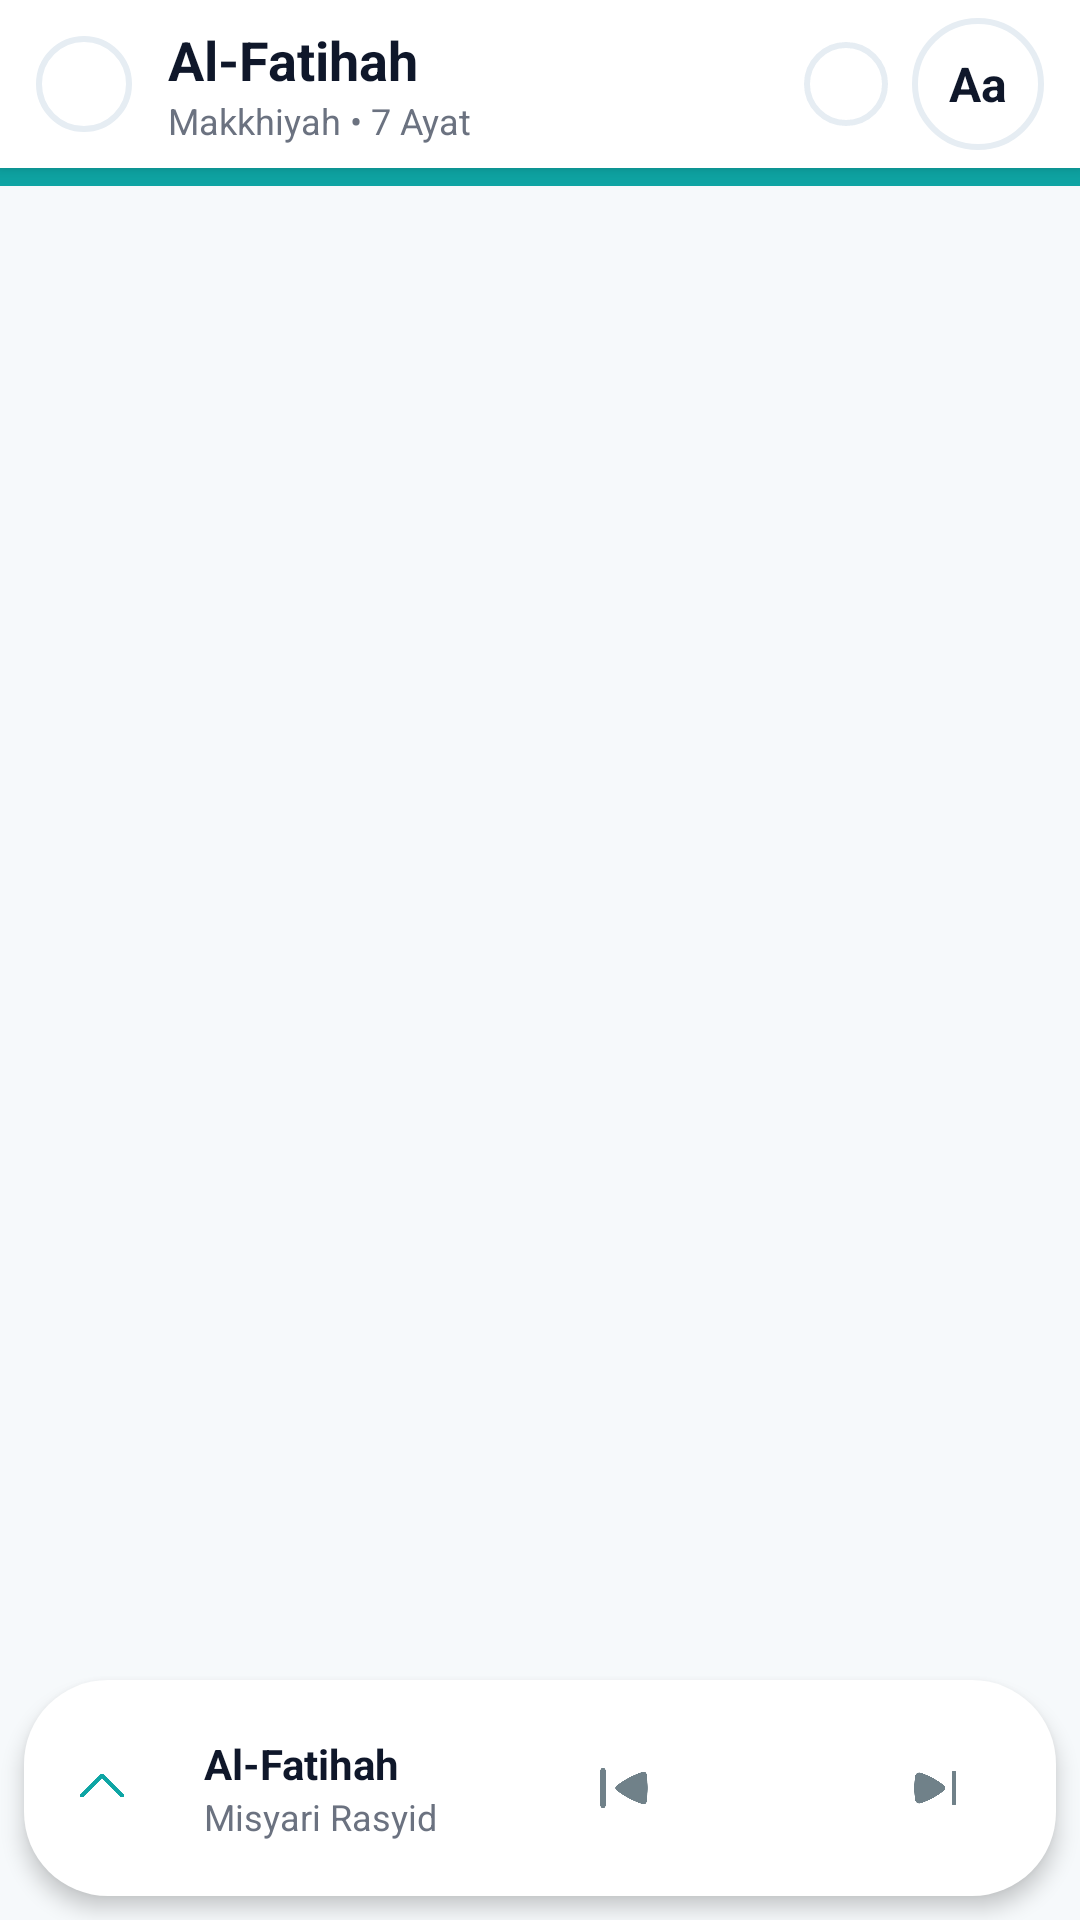

Where icons sit on this 1080px x 1920px app screen, as (x1, y1, x2, y2):
Berikutnya: (914, 1771, 956, 1805)
chevron up: (80, 1774, 124, 1797)
Sebelumnya: (600, 1768, 648, 1808)
